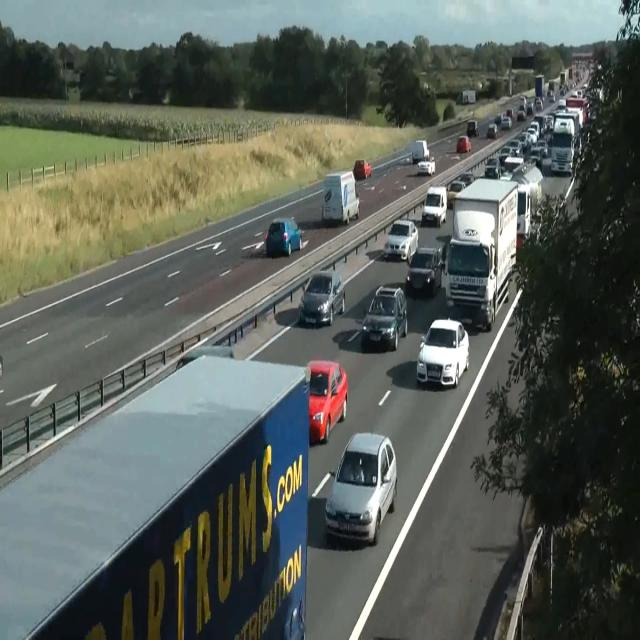bus: (325, 431, 397, 545), (305, 359, 347, 445), (362, 285, 408, 351), (298, 270, 346, 326), (176, 343, 234, 371), (265, 217, 303, 257), (385, 219, 419, 262), (446, 180, 466, 208), (353, 159, 371, 180), (417, 156, 435, 175), (456, 135, 471, 153), (467, 120, 479, 137), (500, 114, 512, 130), (487, 122, 498, 138)
jeep: (416, 316, 470, 388), (405, 245, 443, 297), (421, 185, 447, 227)
minibus: (0, 350, 310, 639), (444, 177, 518, 331), (321, 170, 359, 225), (550, 128, 574, 175), (410, 140, 429, 164), (534, 74, 544, 98), (462, 90, 476, 104)
